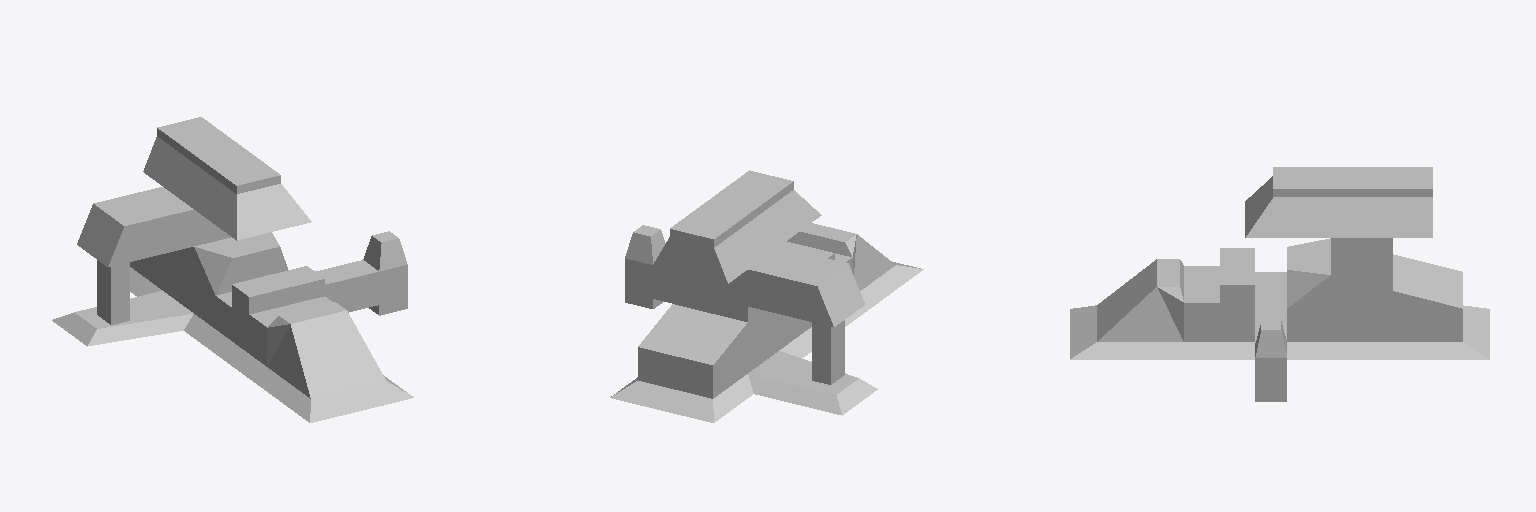
File: gltron.obj
3 renders of one model, left to right at view 1: azimuth 30°, elevation 25°; view 2: azimuth 150°, elevation 25°; view 3: azimuth 270°, elevation 25°, orthographic.
Parts seen in each view (by area): view 1: Cube; view 2: Cube; view 3: Cube.
Part boxes in pixels (left/top/right/bottom): Cube: left=52, top=117, right=413, bottom=422; Cube: left=610, top=170, right=923, bottom=422; Cube: left=1070, top=167, right=1489, bottom=401.
Bounding box in the file's own units: 7.39 × 3.95 × 9.66.